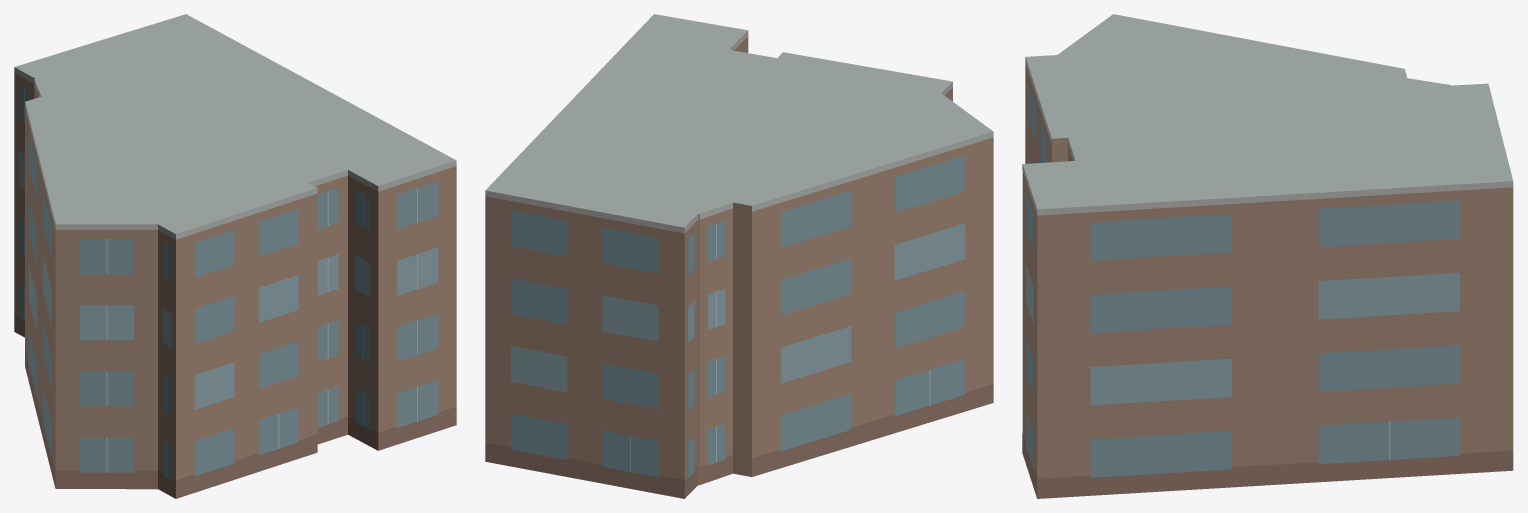
File: survey-upis-32658494.glb
The picture shows the model from 3 angles, left to right: view 1: azimuth 30°, elevation 25°; view 2: azimuth 150°, elevation 25°; view 3: azimuth 270°, elevation 25°; orthographic projection. The views are drawn at different scales.
Parts seen in each view (by area): view 1: survey-upis-32658494.tmp; view 2: survey-upis-32658494.tmp; view 3: survey-upis-32658494.tmp.
Boxes of the visible parts, x1,y1,x2,y2 form: survey-upis-32658494.tmp: [14, 14, 456, 498]; survey-upis-32658494.tmp: [485, 14, 993, 498]; survey-upis-32658494.tmp: [1022, 14, 1513, 498].
Bounding box in the file's own units: 16.74 × 11.55 × 17.76.
